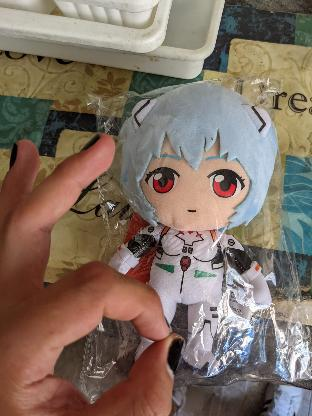rei-plush: (91, 76, 273, 370)
